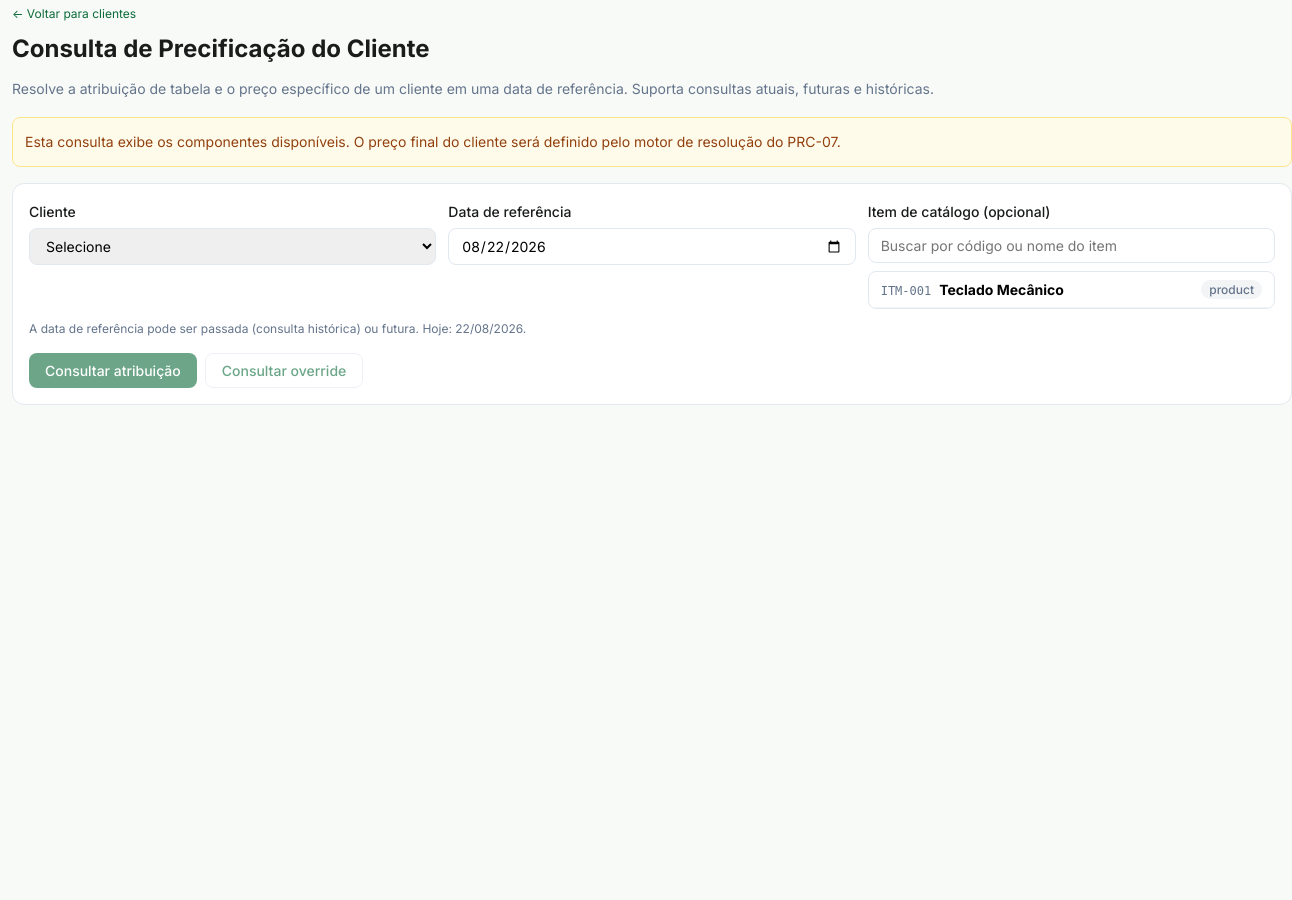
Test case: No PRC-07 implementation in the lookup page (CUI-NPRC07-01..04) › CUI-NPRC07-04: lookup page does not fallback from OVERRIDE_NOT_FOUND to commercial table price
This screenshot has width=1292, height=900.
Select "company-…" in the dropdown labelled "Cliente" at (233, 246), box [29, 228, 436, 265]
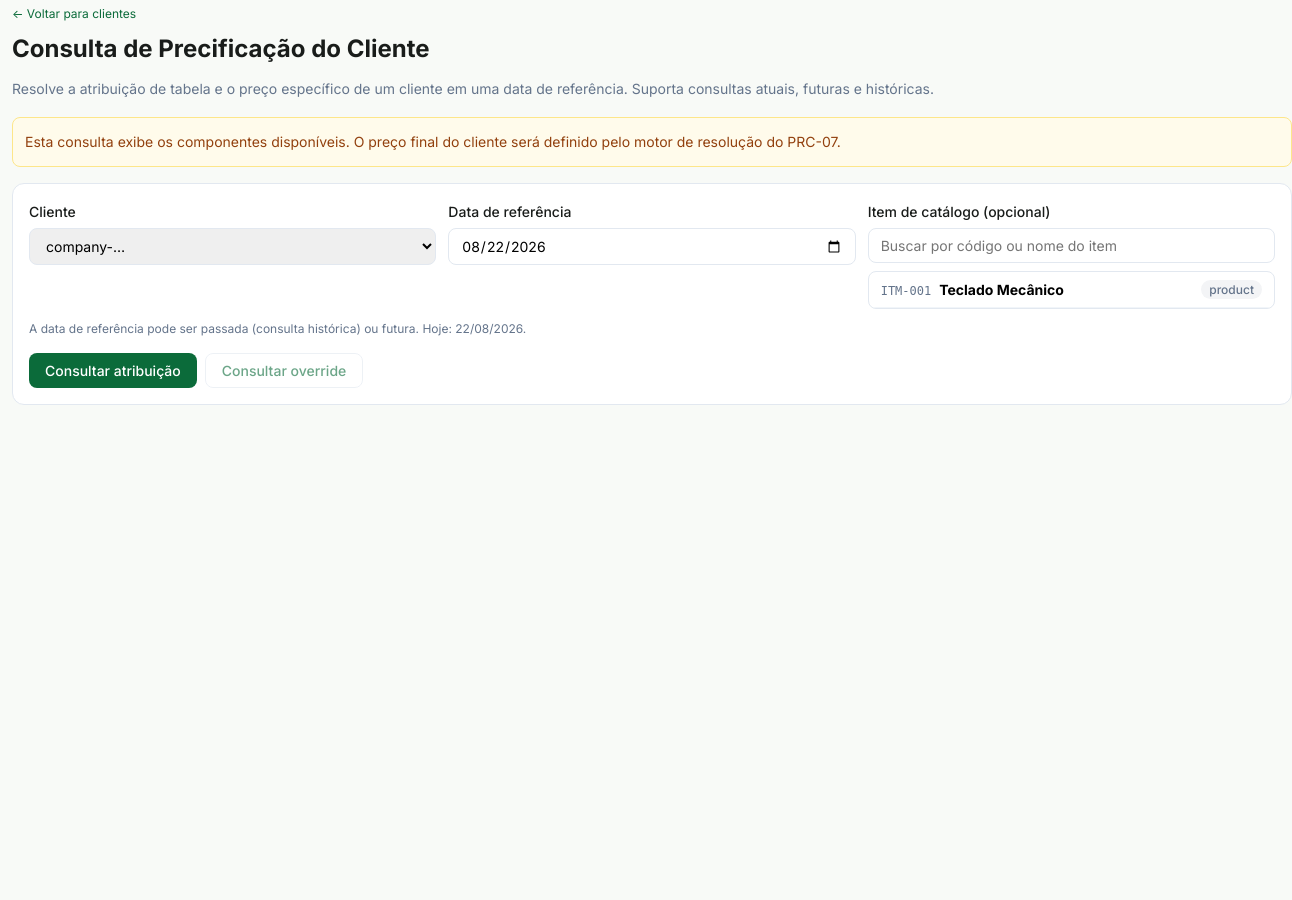
Click the option "ITM-001Teclado Mecânico product".
click(906, 291)  # box [869, 272, 1274, 308]
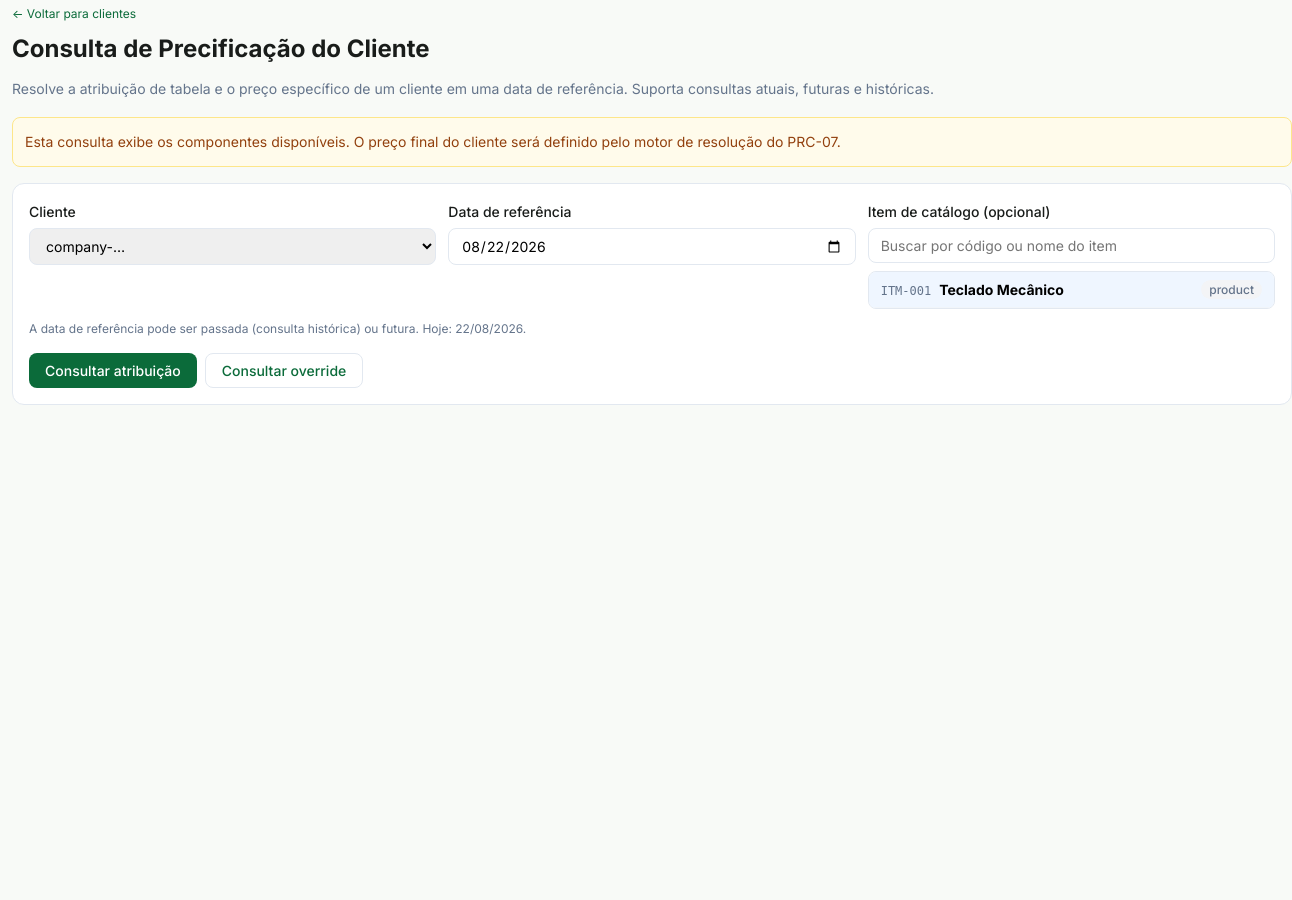
Click the button "Consultar atribuição".
click(113, 370)  # box [29, 353, 197, 388]
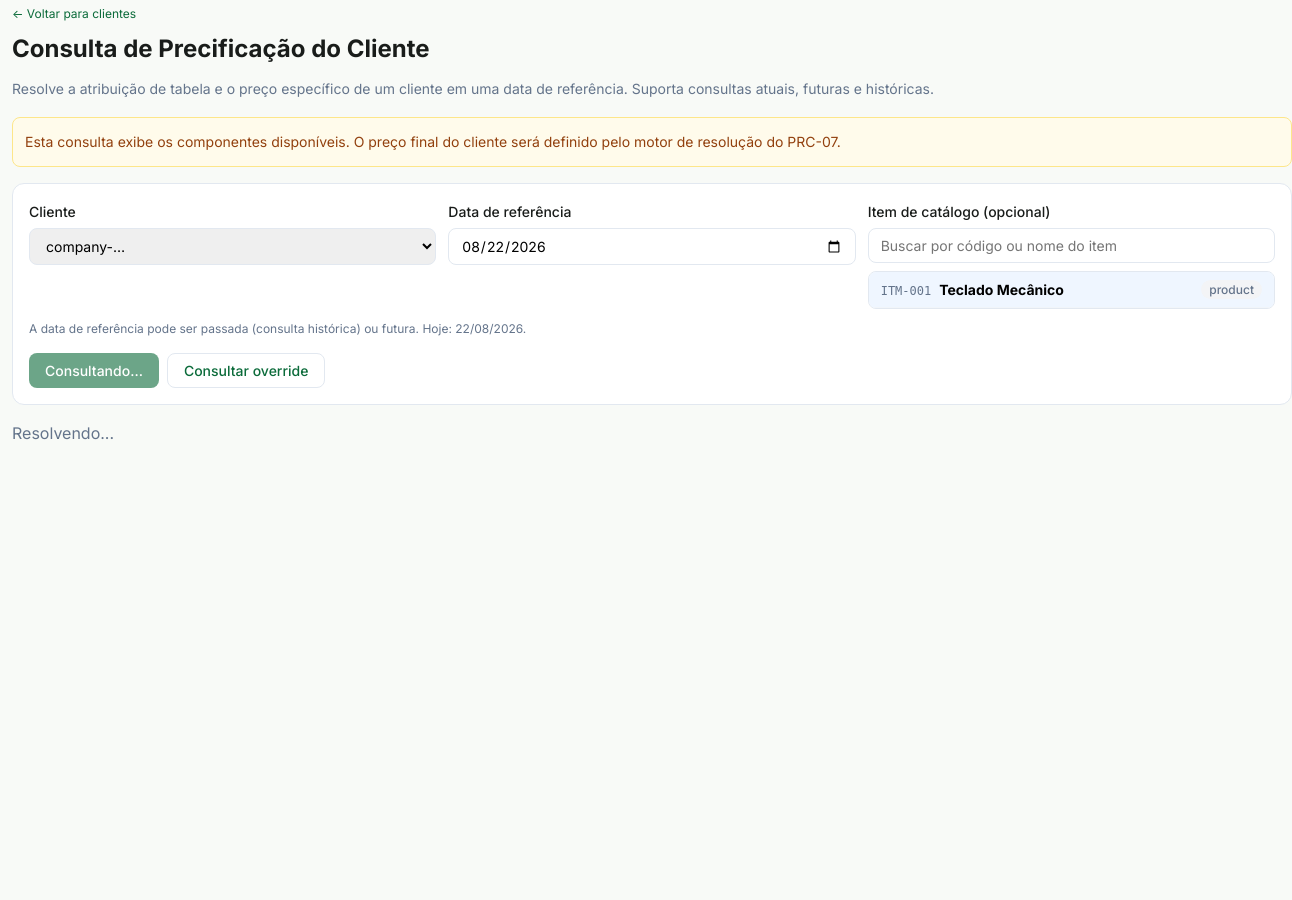
Click the button "Consultar override".
click(246, 370)  # box [167, 353, 325, 388]
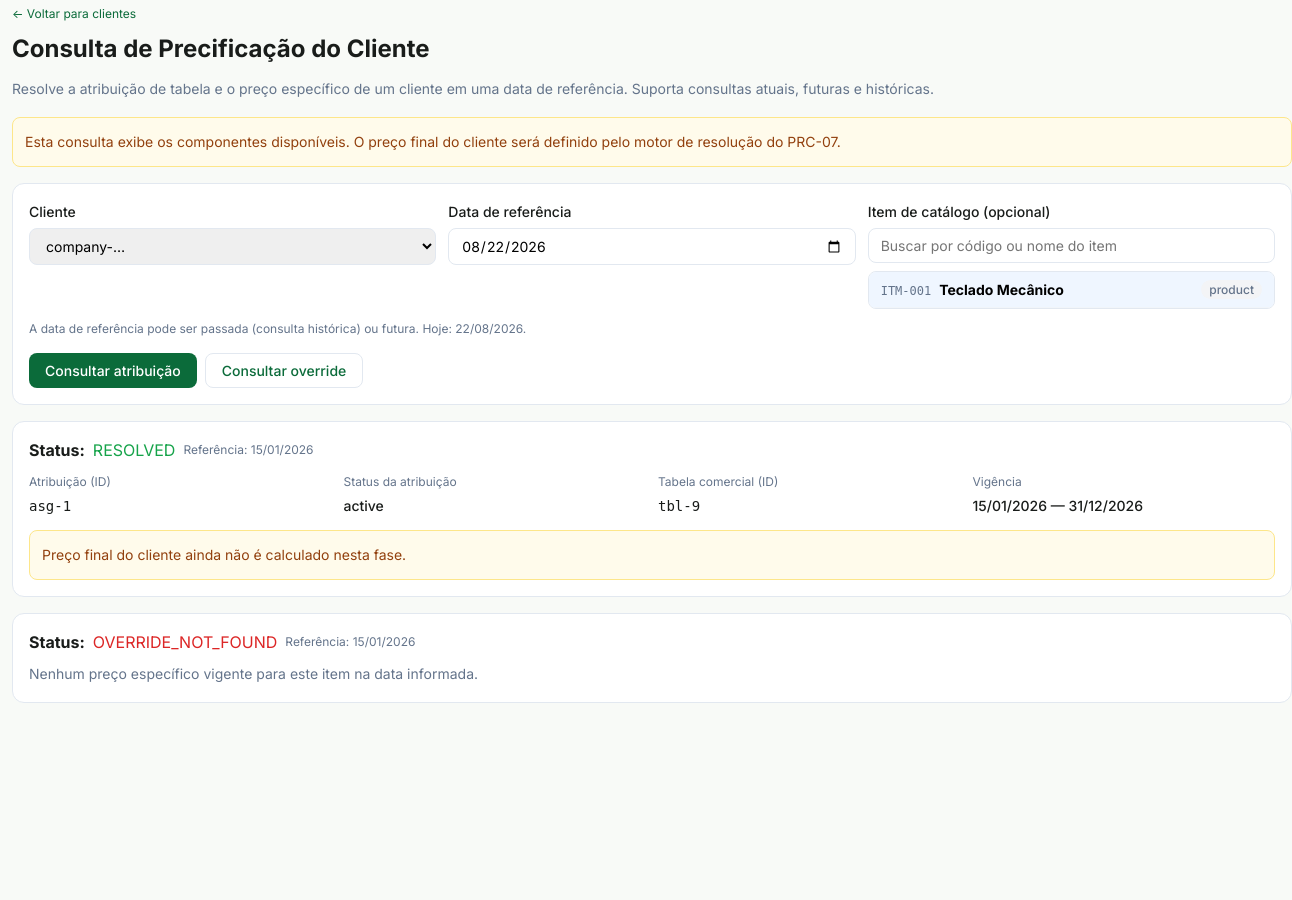
Expected: the text "OVERRIDE_NOT_FOUND" is shown, [93, 630, 277, 654]
Expected: the text "Nenhum preço específico vigente para este item na data informada." is shown, [29, 665, 478, 682]
Expected: the text "tbl-9" is shown, [658, 498, 700, 514]
